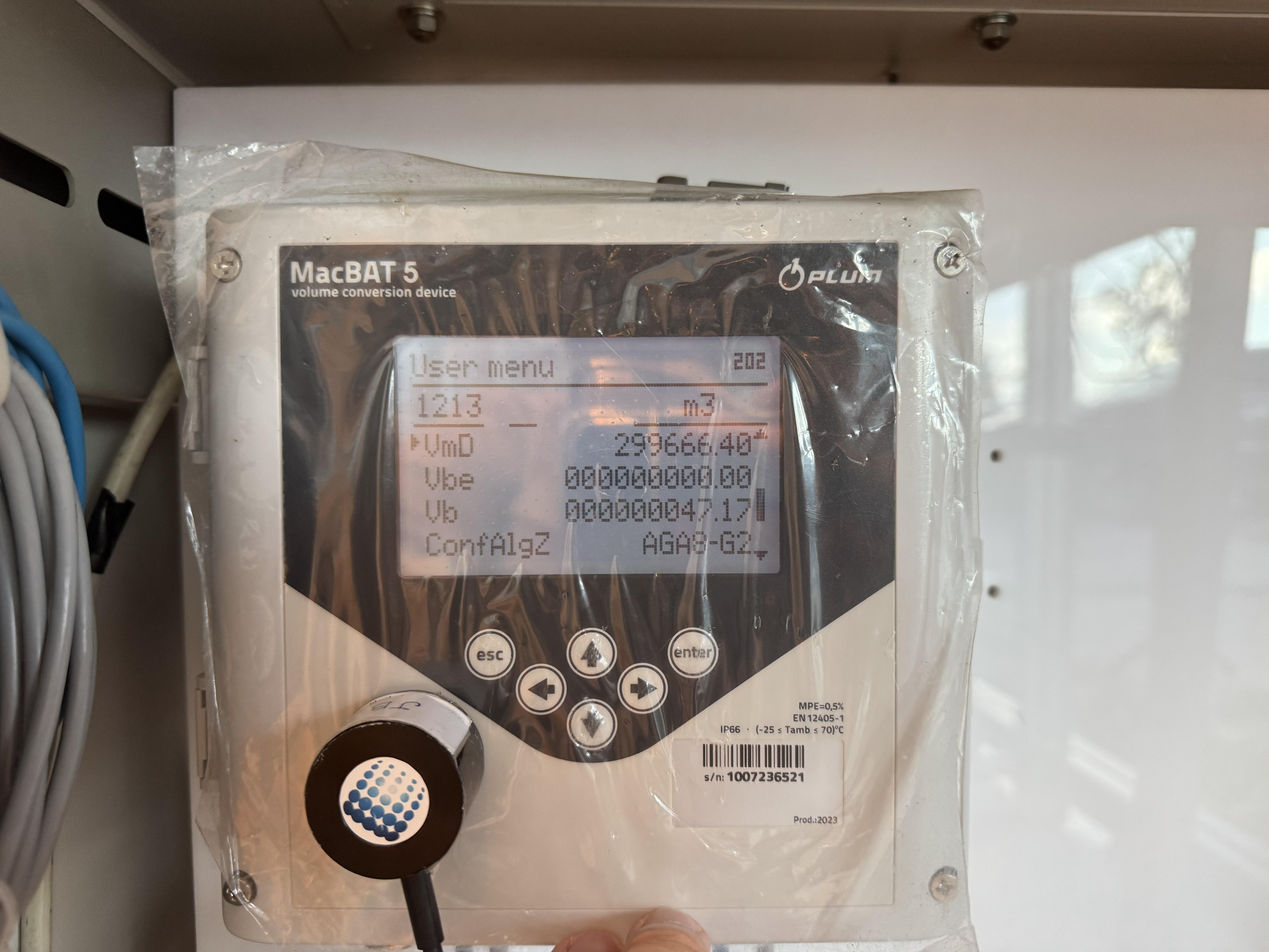digital_screen: (395, 337, 780, 574)
